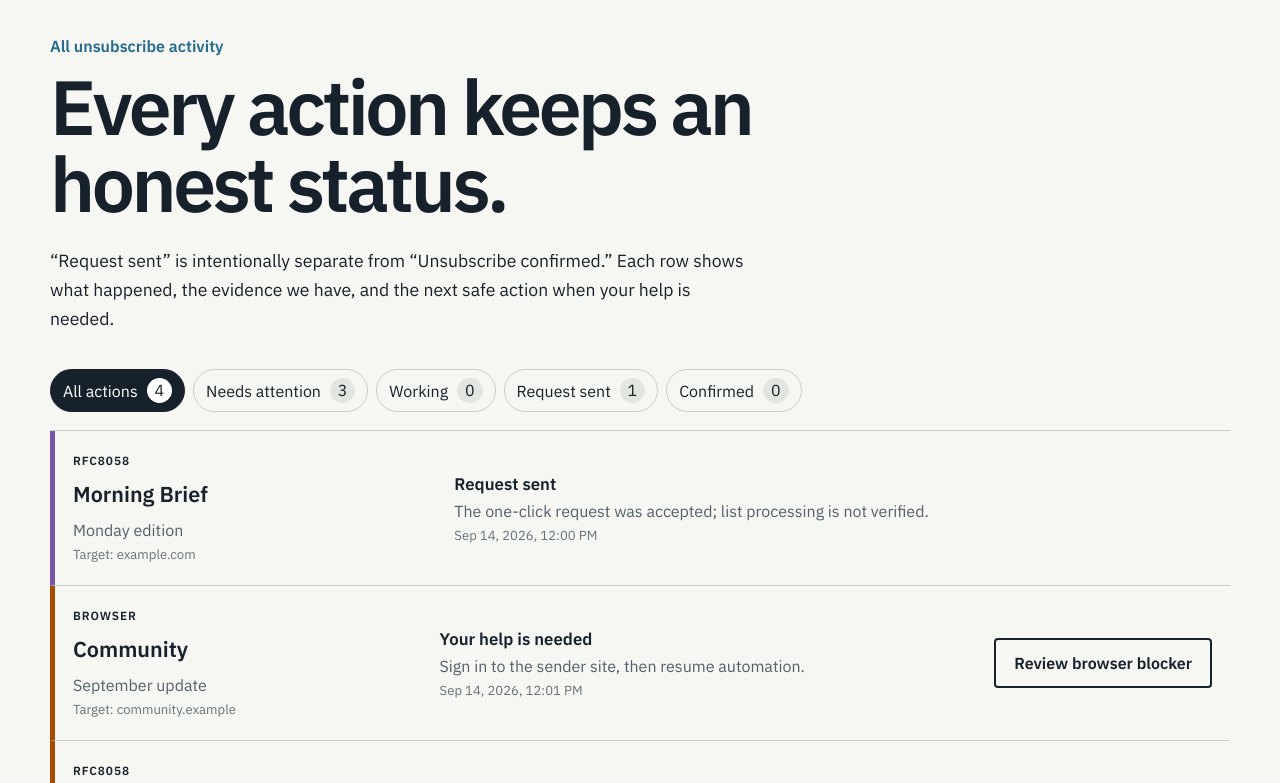
it: shows a filterable global ledger with only policy-eligible repair controls
expect the text "Request sent" is shown: met, box [454,473,556,495]
expect the text "list processing is not verified" is shown: met, box [454,501,929,521]
Click the button "Needs attention 3". click: (281, 390)
box: [193,369,368,412]
(page scrolled)
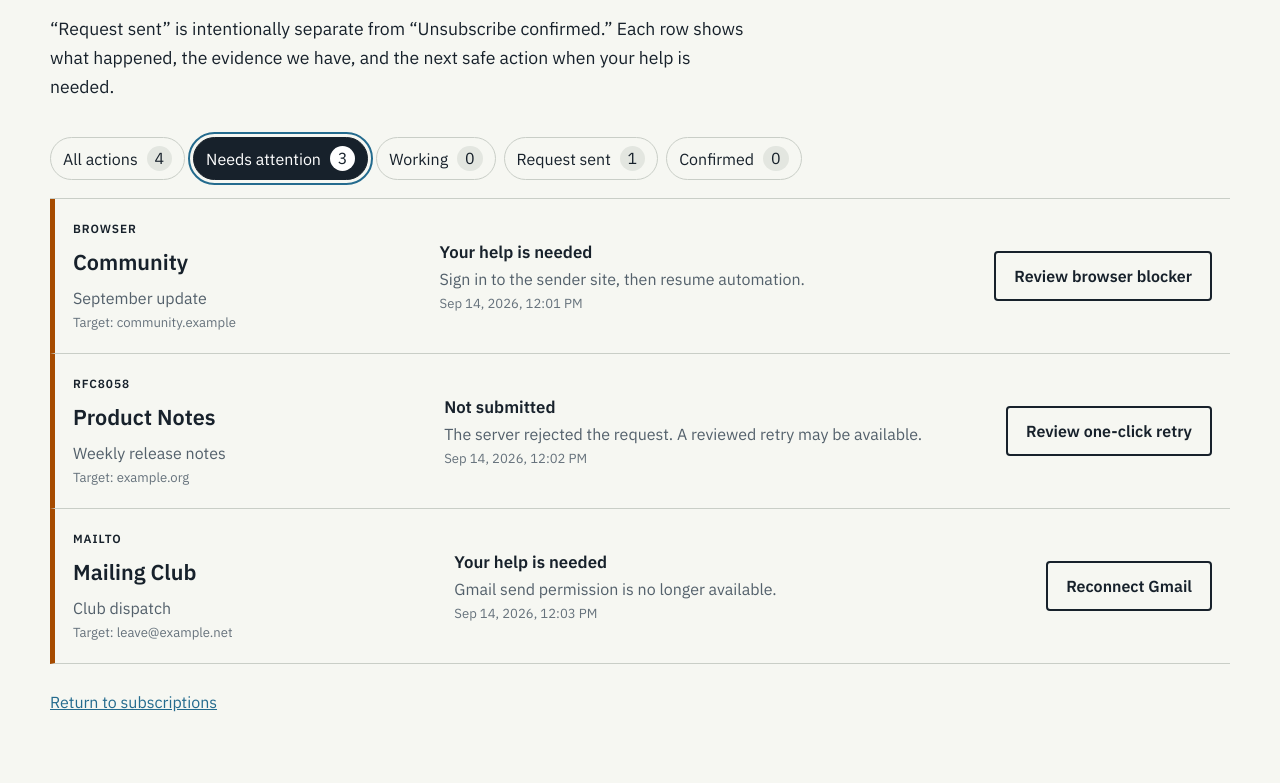
expect the list item "Community" is shown: met, box [50,199,1230,354]
expect the heading "Morning Brief" is gone: met
